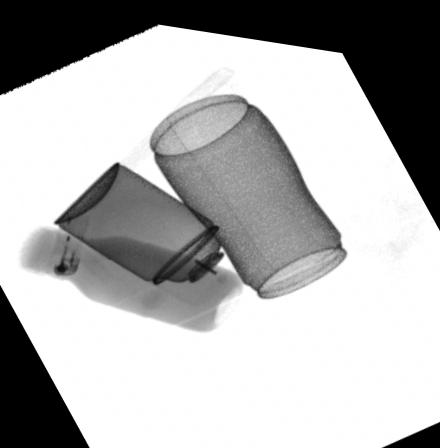Lighter: (50, 208, 91, 273)
Sprayer: (51, 158, 257, 302)
